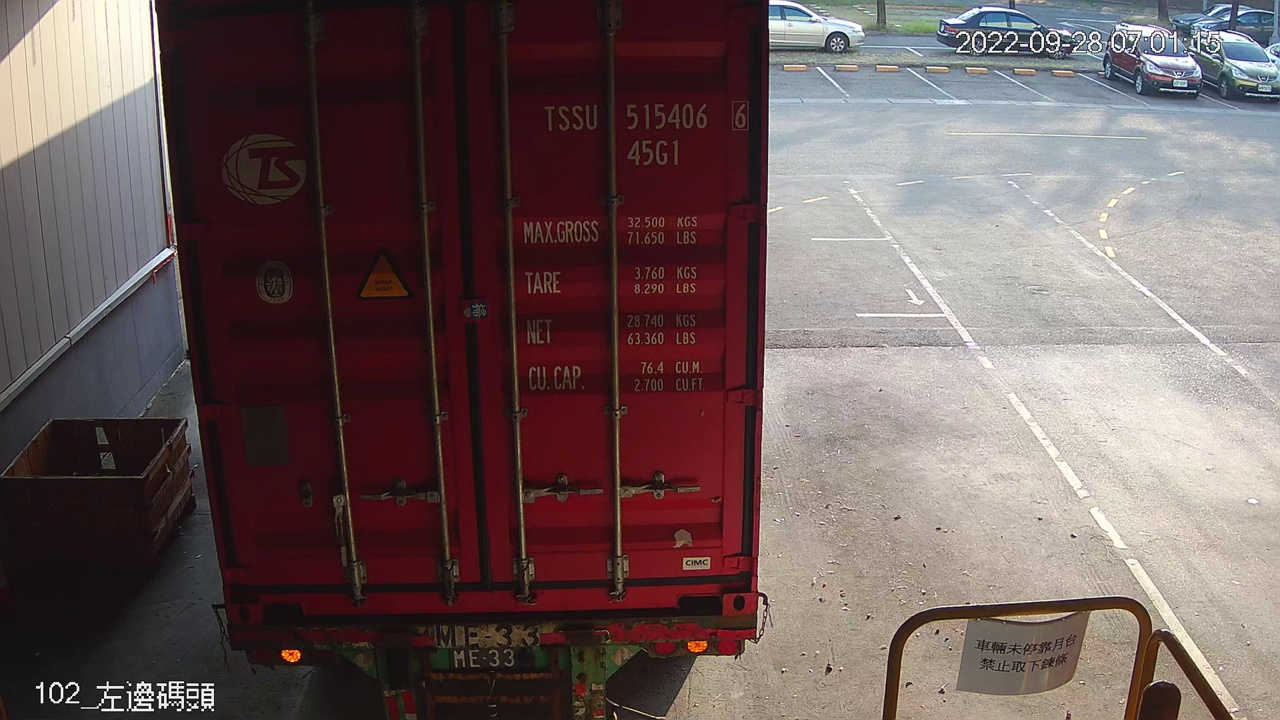container: (533, 93, 756, 173)
